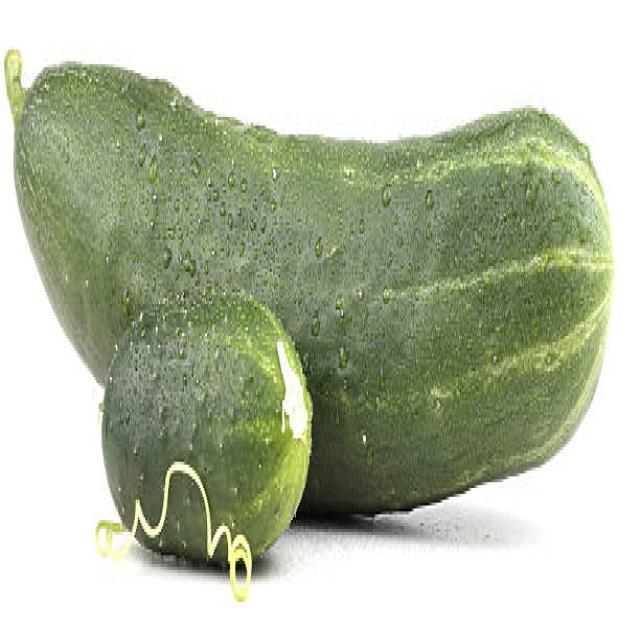cucumber: (14, 62, 613, 518), (101, 297, 311, 561)
